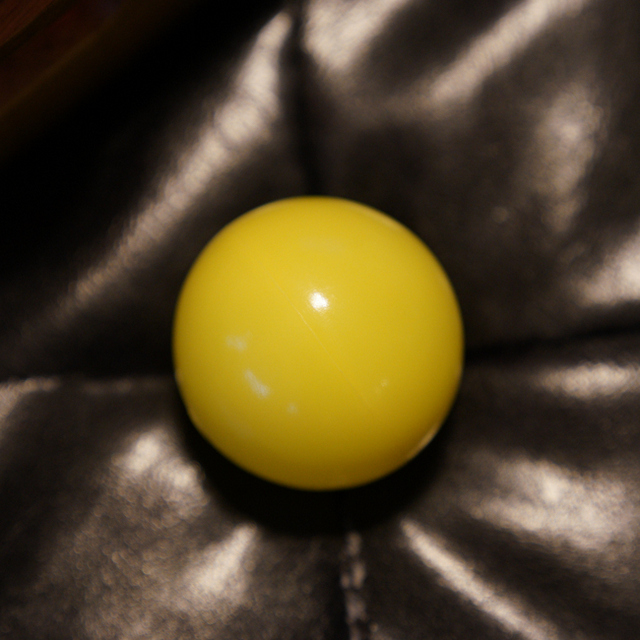Ball: (165, 195, 461, 485)
